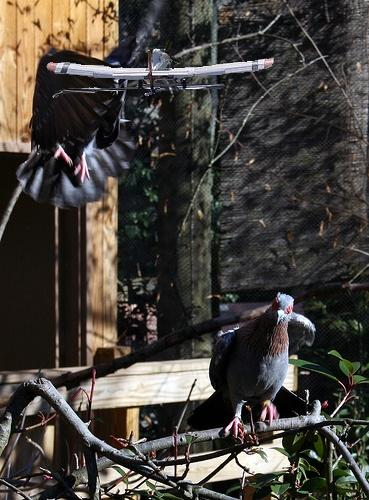tampered: (47, 40, 275, 98)
